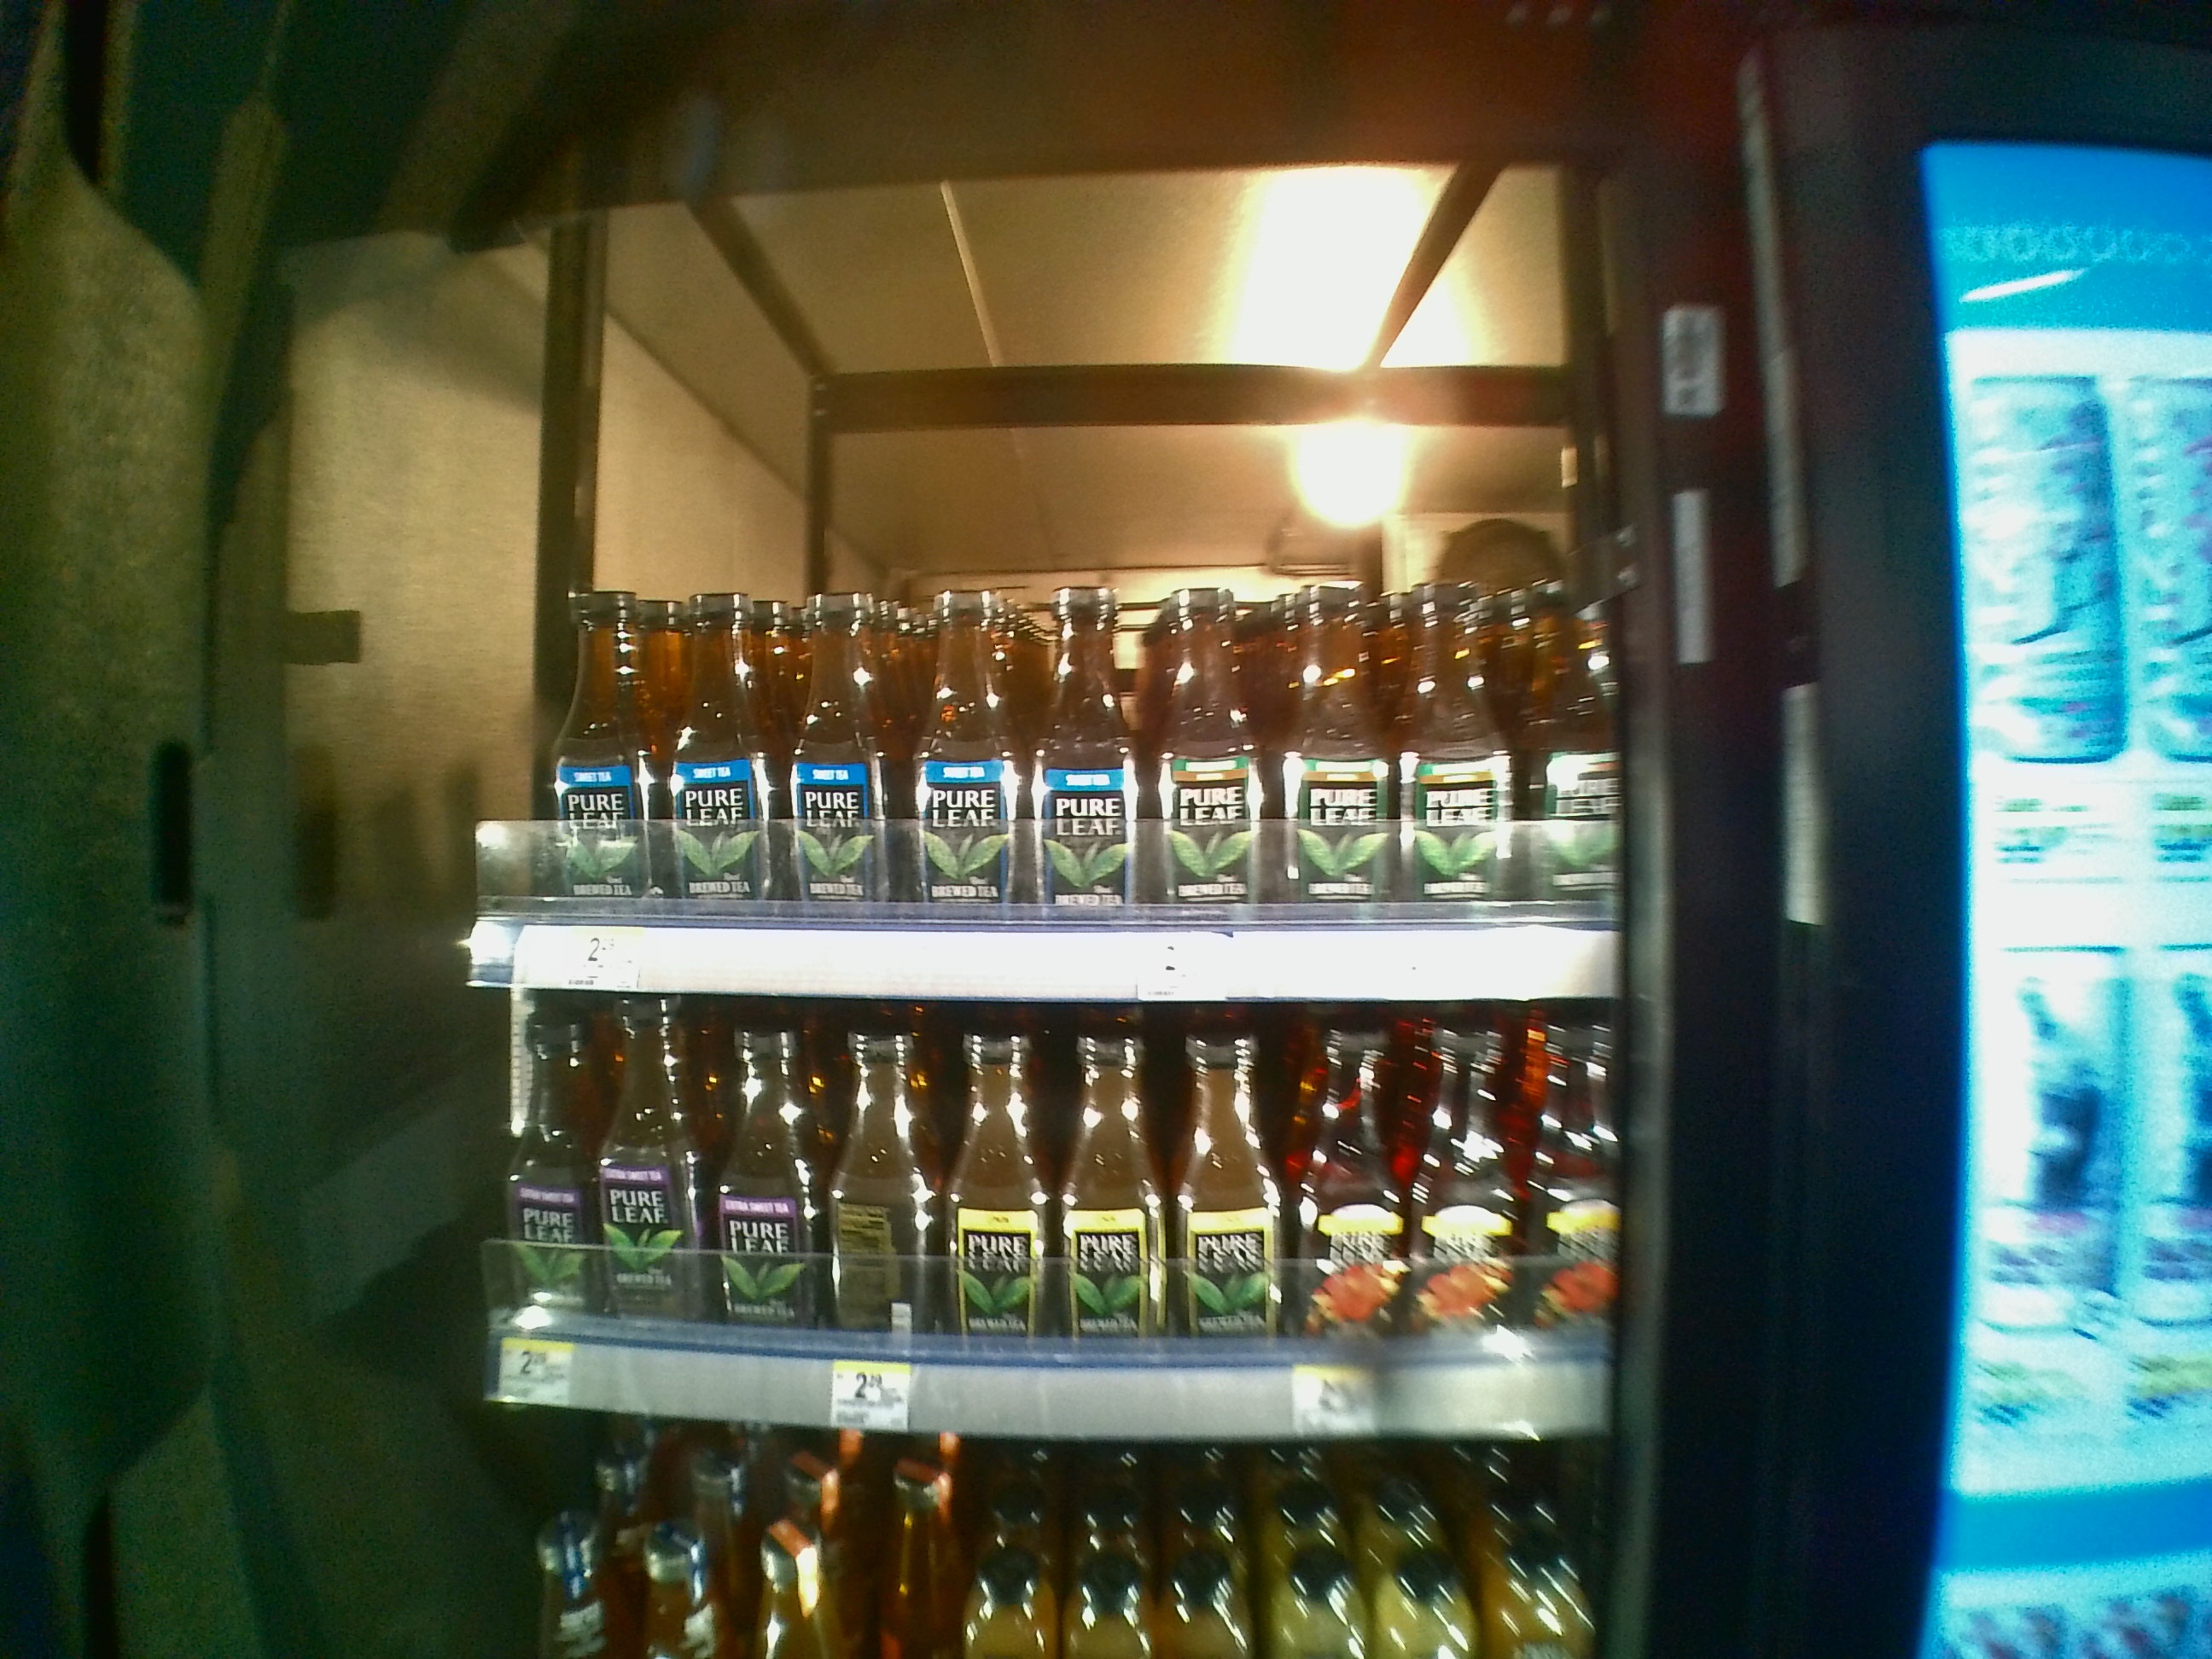shelf: (465, 209, 1616, 1002), (477, 1004, 1618, 1436)
